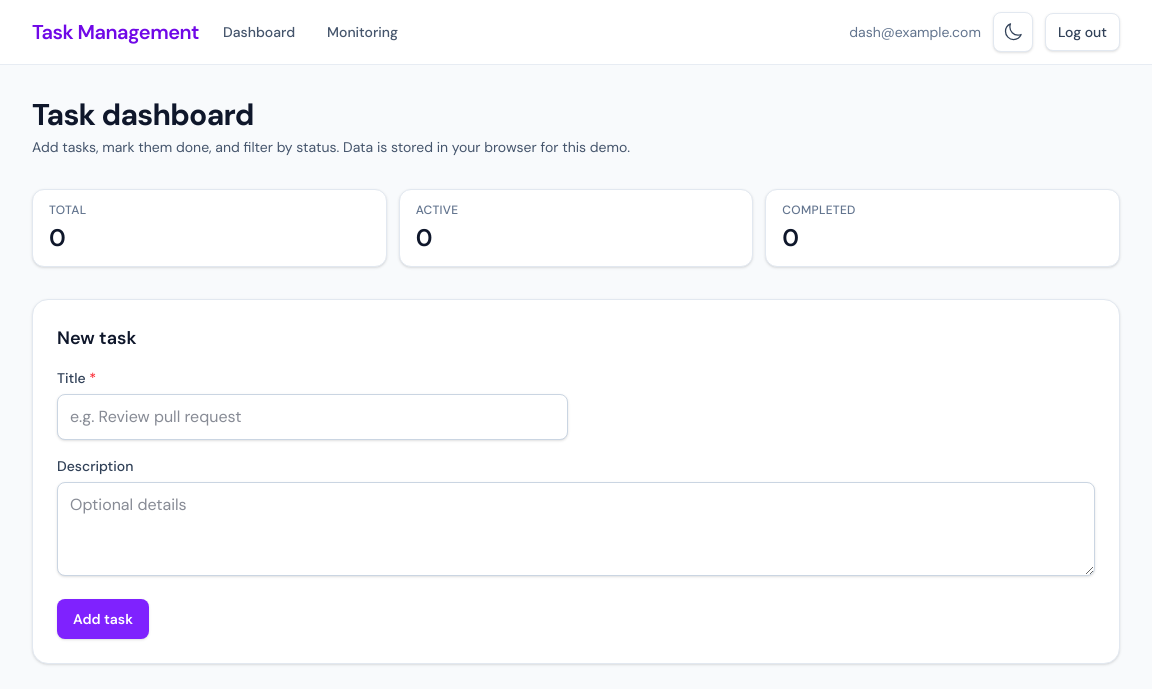
Test case: DashboardPage (local storage) › edits a task title
In the field with test id "task-title-input": point(312, 417) [57,394,568,440], type "Editable"
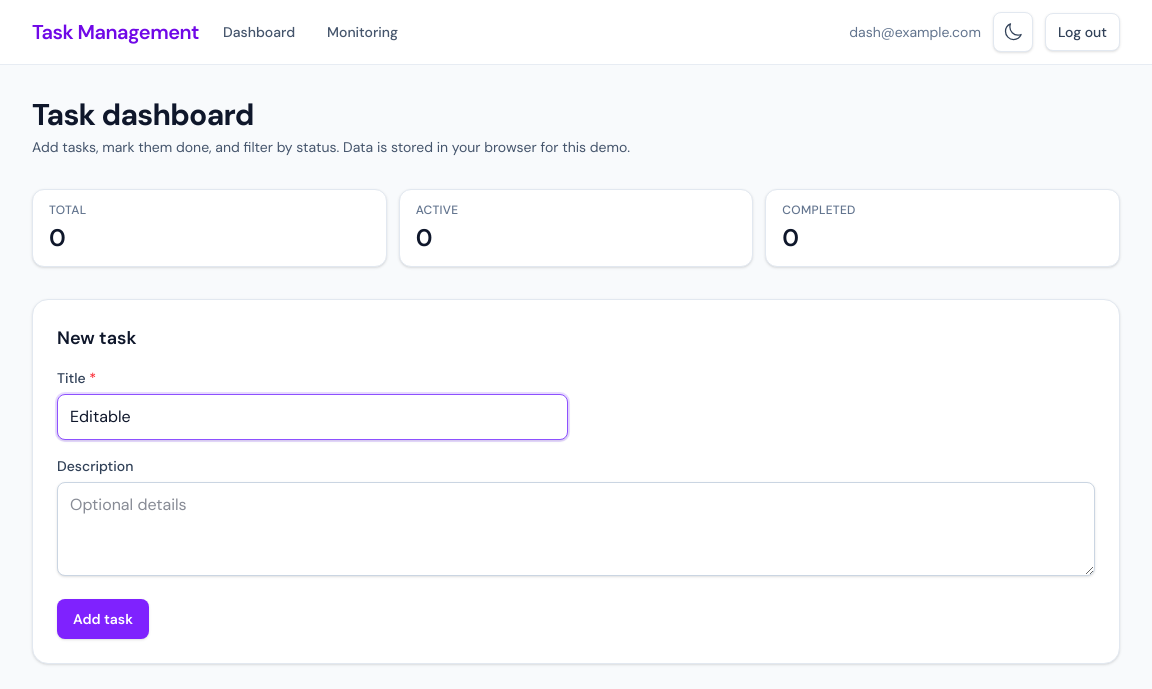
Click the button with test id "task-add-submit": point(103, 619) [57,599,149,639]
(page scrolled)
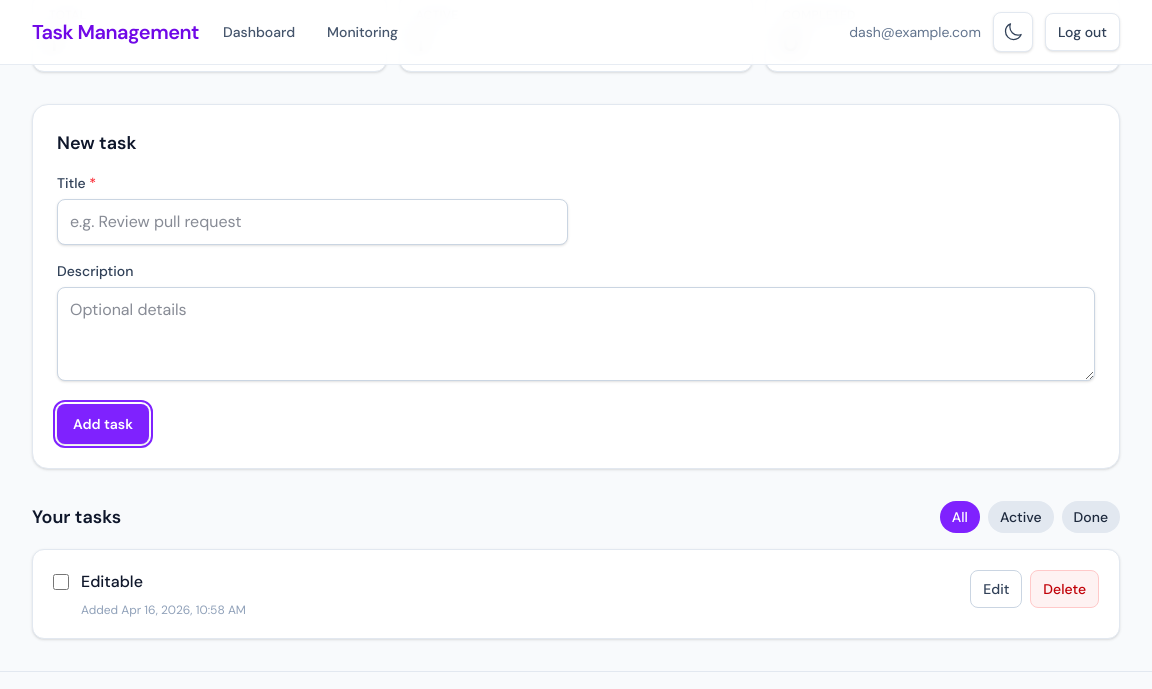
Click the button with test id "task-edit-button": point(996, 589) [970,570,1022,608]
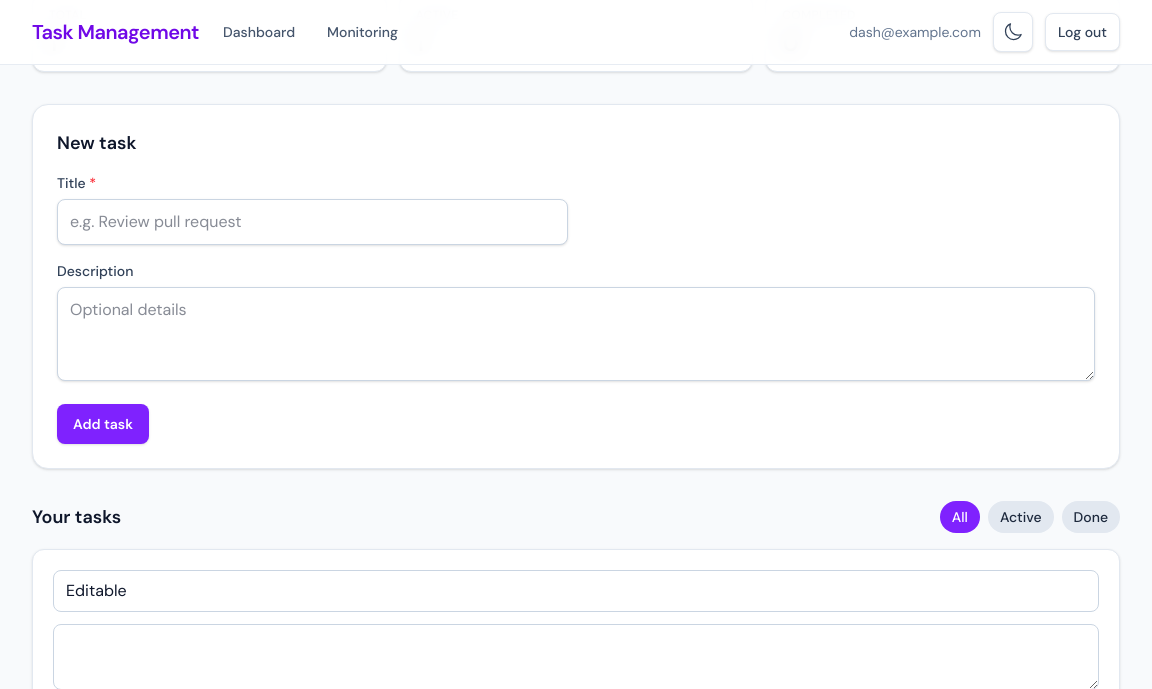
Replace the text in the field with test id "task-edit-title" with "Updated": point(576, 591) [53,570,1099,612]
(page scrolled)
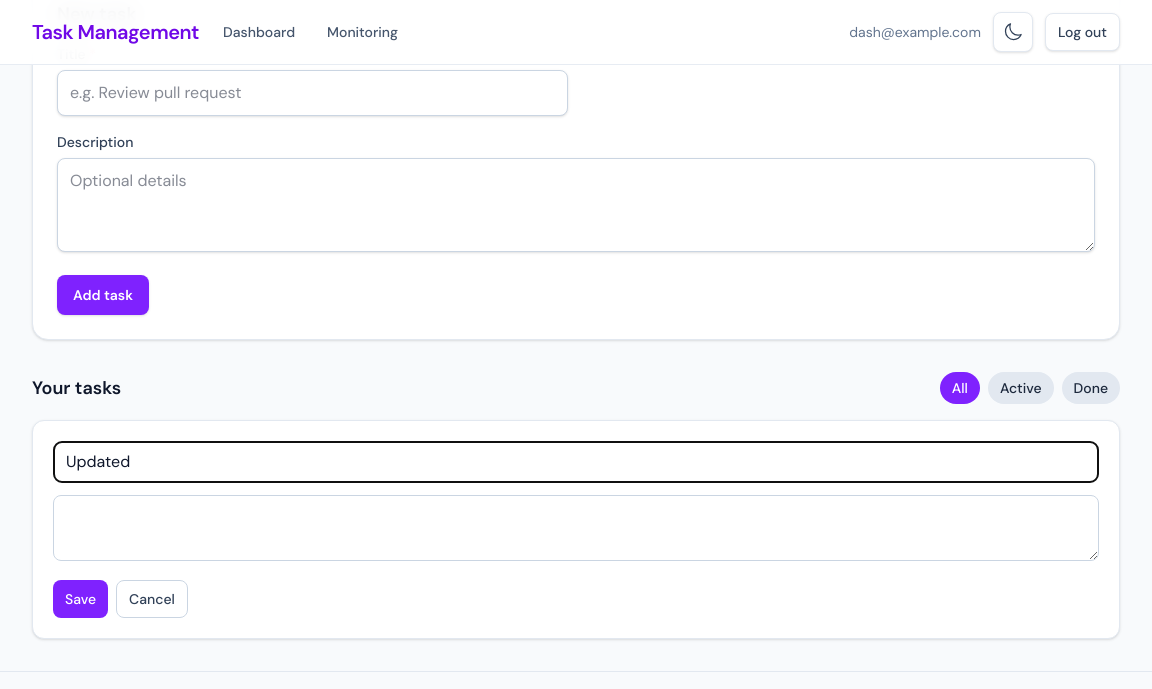
Click the button with test id "task-save-edit": point(81, 599) [53,580,108,618]
(page scrolled)
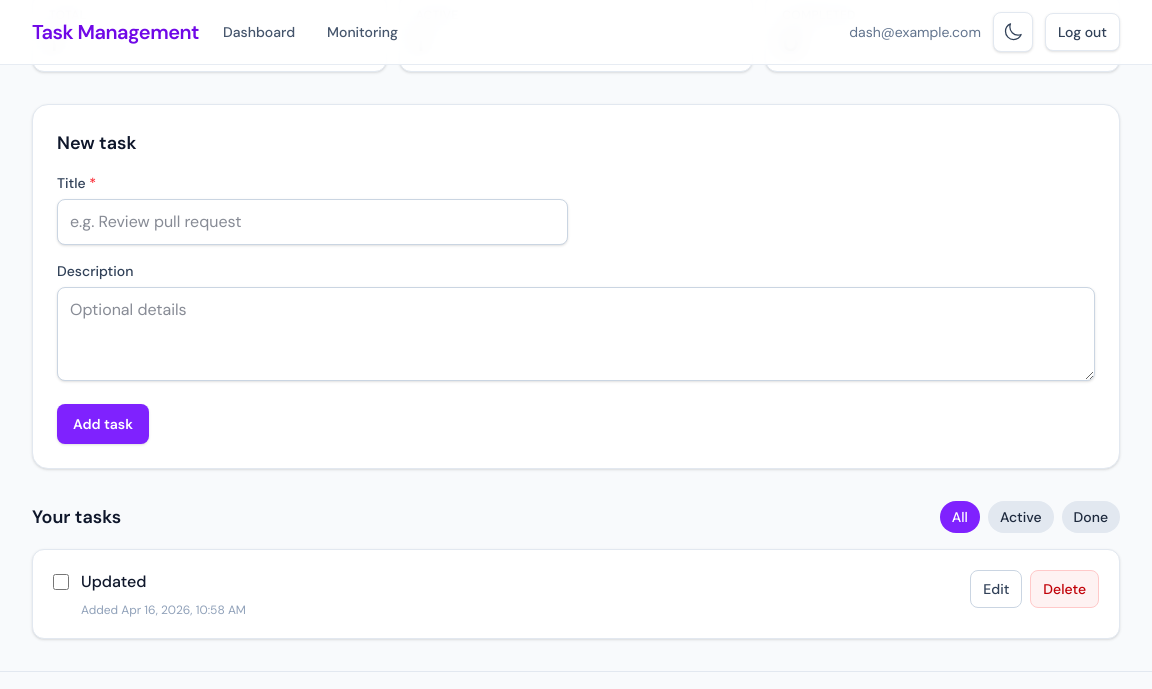
Check: the heading "Updated" is shown, box [81,571,146,592]
